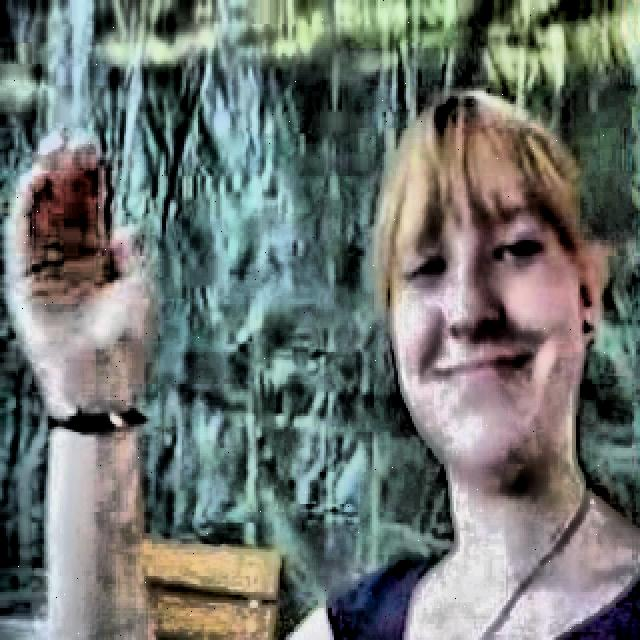T: (11, 92, 638, 635)
